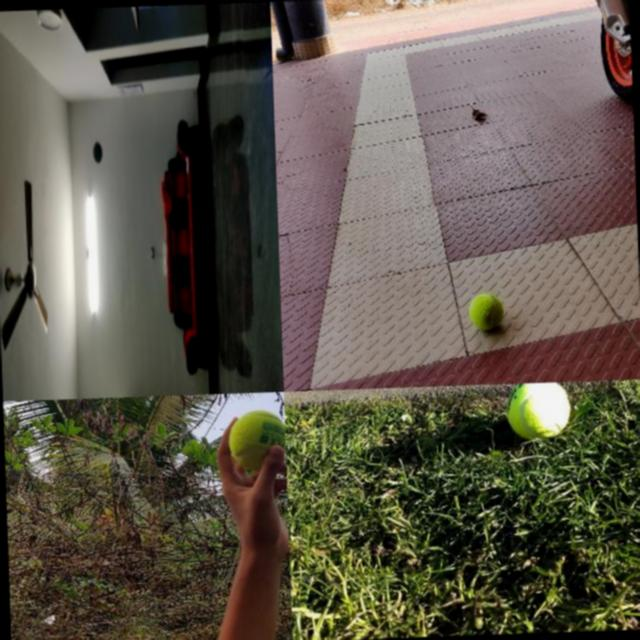tennis-ball: (504, 382, 572, 442), (226, 408, 285, 474), (468, 292, 504, 328), (92, 140, 102, 162)
